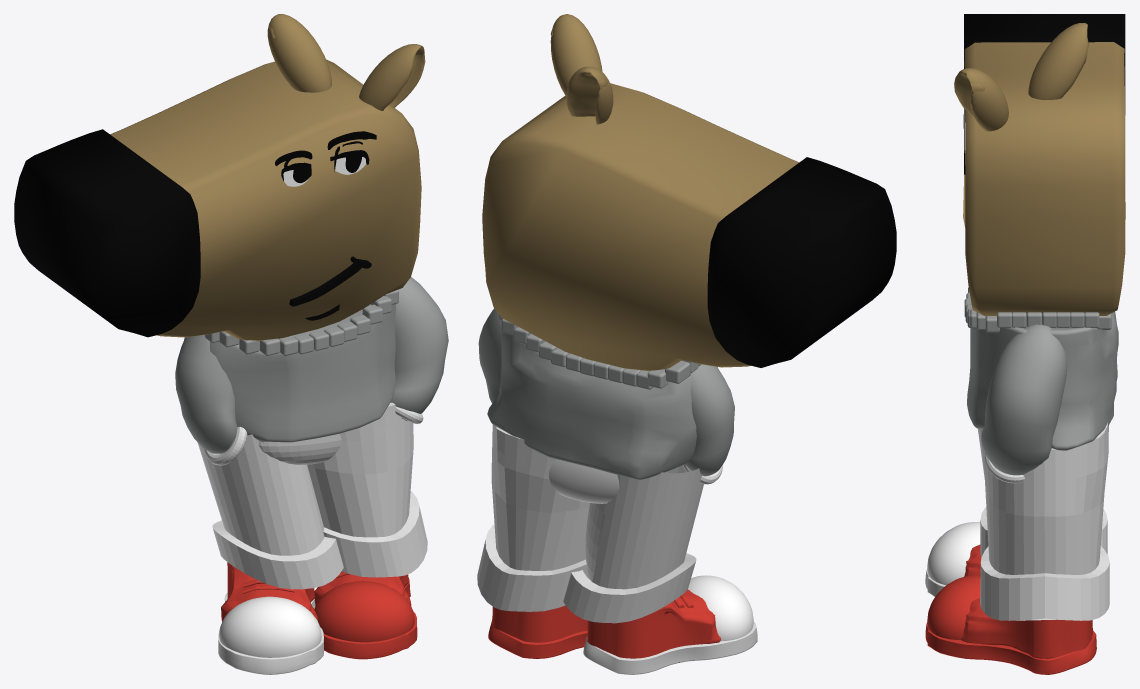
Rendered from tipoChill.glb.
3 renders of one model, left to right at view 1: azimuth 30°, elevation 25°; view 2: azimuth 150°, elevation 25°; view 3: azimuth 270°, elevation 25°, orthographic.
Parts seen in each view (by area): view 1: head, Nose, Cube.004, R_leg, L_leg, Sphere.002, arm, Sphere.007, Sphere.001, ear.001, Colar, ear (+9 smaller); view 2: head, Nose, Cube.004, R_leg, L_leg, Shoe.002, arm, Colar, Shoe, Sphere.007, Shoe.003, ear (+5 smaller); view 3: head, R_leg, Sphere.002, Cube.004, Nose, Shoe.003, ear.001, Shoe.001, Colar, ear, Sphere.001, Sphere.007 (+3 smaller).
Part boxes in pixels (left/top/right/bottom): head: left=110, top=59, right=421, bottom=340; Nose: left=14, top=129, right=200, bottom=337; Cube.004: left=184, top=304, right=395, bottom=442; R_leg: left=307, top=402, right=427, bottom=577; L_leg: left=198, top=434, right=343, bottom=589; Sphere.002: left=390, top=277, right=448, bottom=420; arm: left=175, top=335, right=237, bottom=453; Sphere.007: left=219, top=596, right=321, bottom=657; Sphere.001: left=314, top=581, right=414, bottom=642; ear.001: left=267, top=14, right=331, bottom=92; Colar: left=205, top=290, right=398, bottom=355; ear: left=359, top=44, right=425, bottom=110; head: left=482, top=83, right=798, bottom=371; Nose: left=707, top=157, right=896, bottom=367; Cube.004: left=487, top=331, right=717, bottom=479; R_leg: left=477, top=424, right=589, bottom=611; L_leg: left=563, top=465, right=703, bottom=623; Shoe.002: left=587, top=581, right=720, bottom=658; arm: left=685, top=364, right=734, bottom=476; Colar: left=499, top=315, right=701, bottom=389; Shoe: left=583, top=621, right=757, bottom=674; Sphere.007: left=688, top=575, right=753, bottom=641; Shoe.003: left=492, top=605, right=587, bottom=642; ear: left=550, top=14, right=602, bottom=96; head: left=963, top=42, right=1125, bottom=315; R_leg: left=978, top=423, right=1109, bottom=620; Sphere.002: left=981, top=324, right=1067, bottom=475; Cube.004: left=967, top=311, right=1118, bottom=450; Nose: left=964, top=14, right=1125, bottom=174; Shoe.003: left=961, top=598, right=1092, bottom=658; ear.001: left=1028, top=23, right=1088, bottom=99; Shoe.001: left=925, top=622, right=1096, bottom=674; Colar: left=964, top=287, right=1111, bottom=332; ear: left=954, top=68, right=1008, bottom=131; Sphere.001: left=927, top=575, right=980, bottom=639; Sphere.007: left=927, top=522, right=980, bottom=585.
Size of the model in its own units: 3.44 by 5.15 by 1.56.
